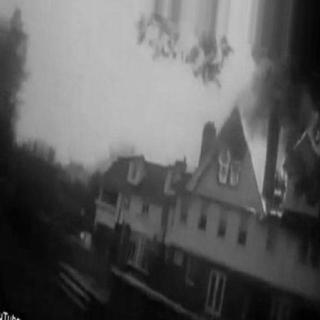Fire: (213, 80, 313, 223)
